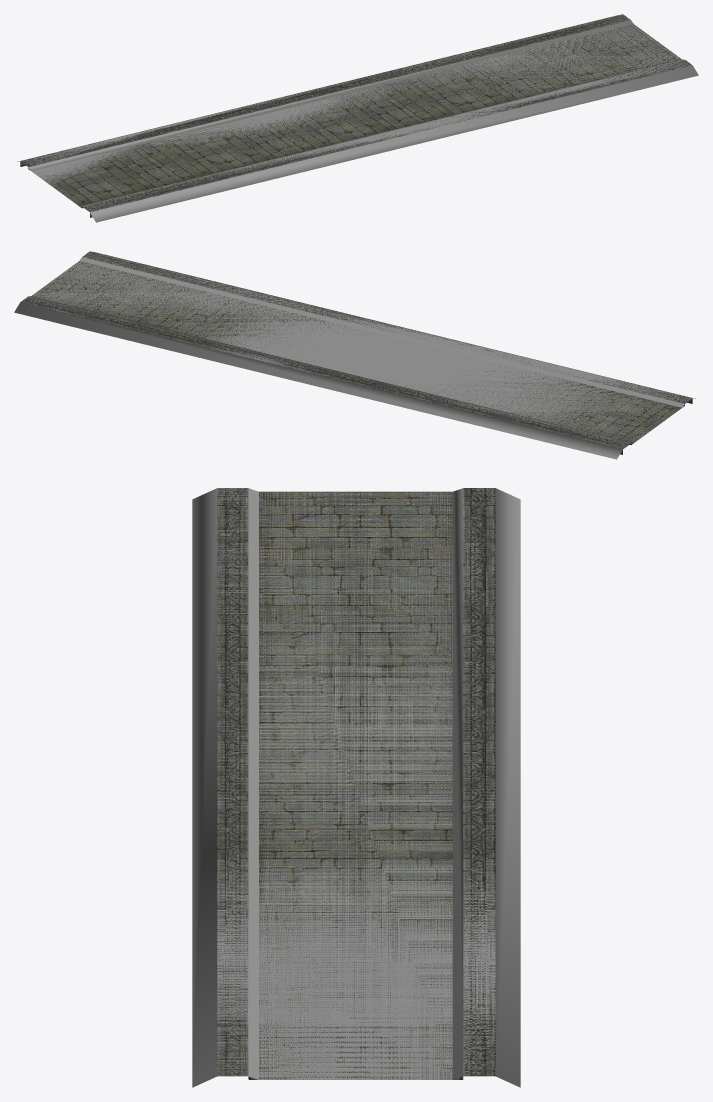
Rendered from YHJ_dimian_01.FBX.
3 renders of one model, top to bottom at view 1: azimuth 30°, elevation 25°; view 2: azimuth 150°, elevation 25°; view 3: azimuth 270°, elevation 25°, orthographic. The views are drawn at different scales.
Visible parts, largest first — view 1: YHJ_dimian_01, YHJ_dimian_01-col; view 2: YHJ_dimian_01-col, YHJ_dimian_01; view 3: YHJ_dimian_01-col, YHJ_dimian_01.
Boxes of the visible parts, left/top/right/bottom form: YHJ_dimian_01: left=20, top=14, right=692, bottom=217; YHJ_dimian_01-col: left=17, top=14, right=698, bottom=222; YHJ_dimian_01-col: left=14, top=251, right=695, bottom=459; YHJ_dimian_01: left=20, top=251, right=692, bottom=454; YHJ_dimian_01-col: left=192, top=488, right=520, bottom=1087; YHJ_dimian_01: left=217, top=488, right=495, bottom=1079.
Bounding box in the file's own units: 25 × 0.2264 × 5.9.
